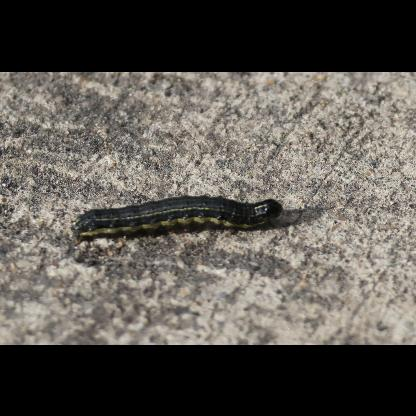Fall Armyworm Larvae: (69, 190, 287, 246)
